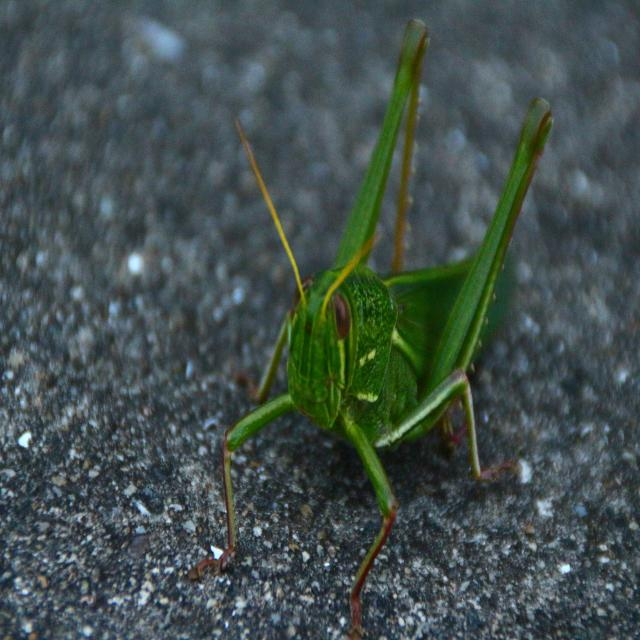ZhaMeng: (225, 8, 552, 567)
